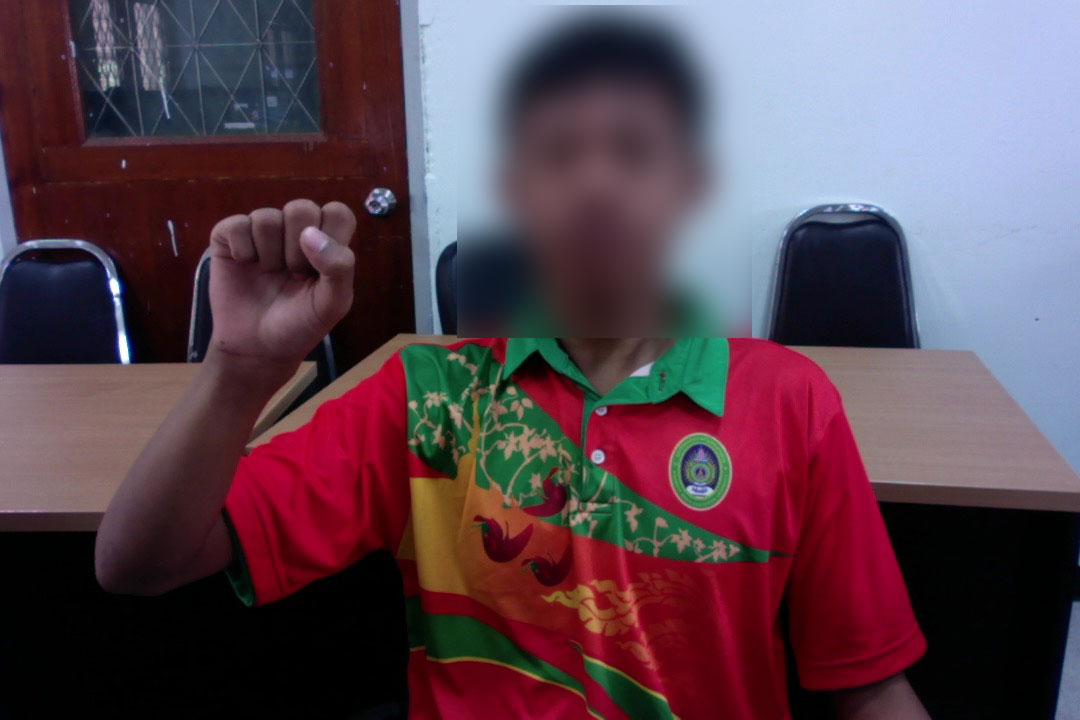sor: (198, 192, 365, 385)
